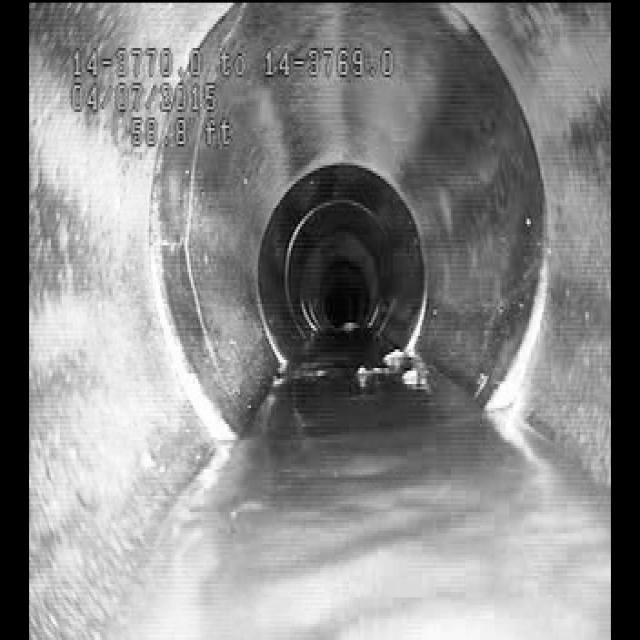Crack: (158, 152, 244, 424)
